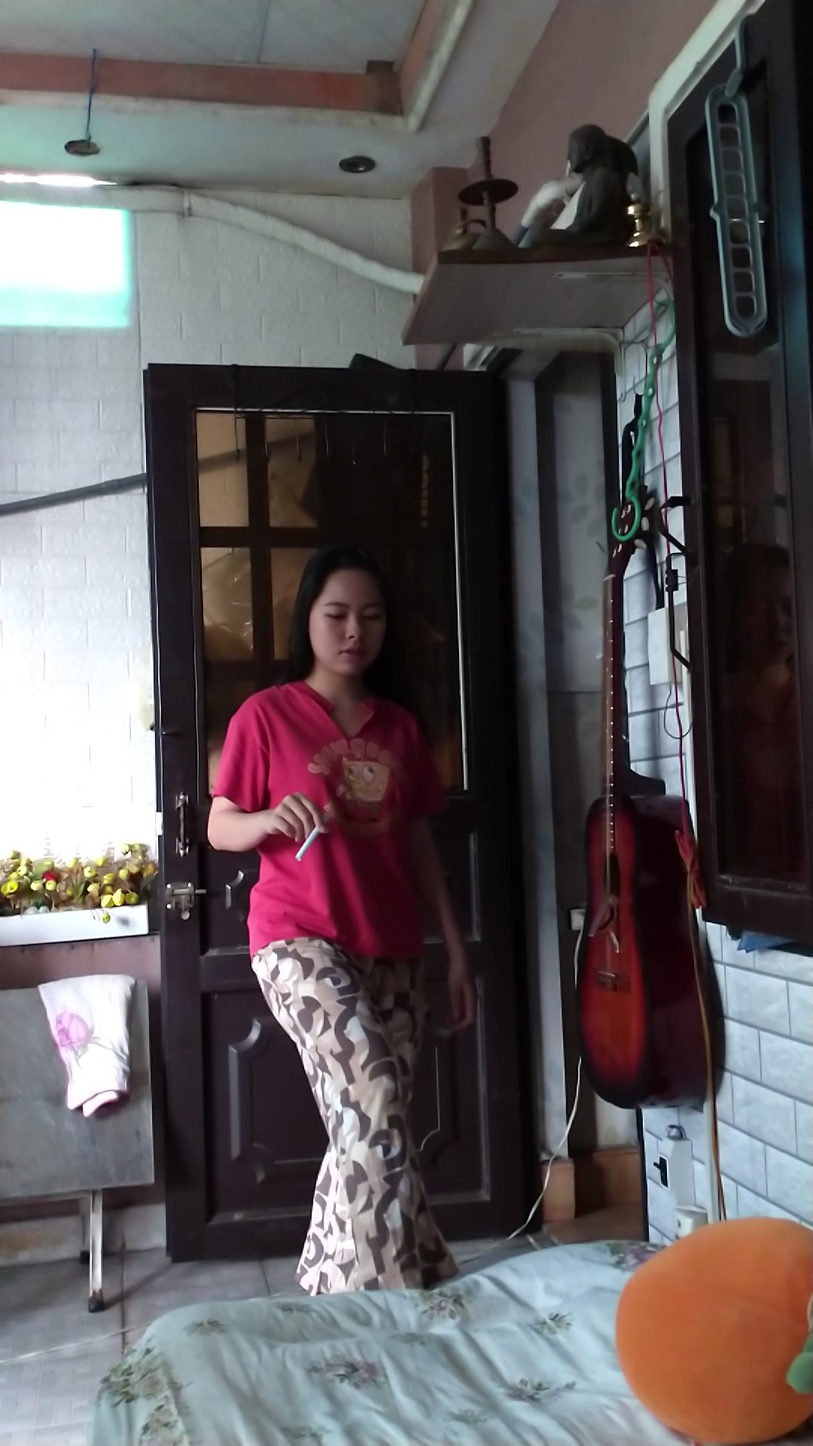cigarette: (291, 827, 321, 864)
person: (206, 529, 477, 1297)
